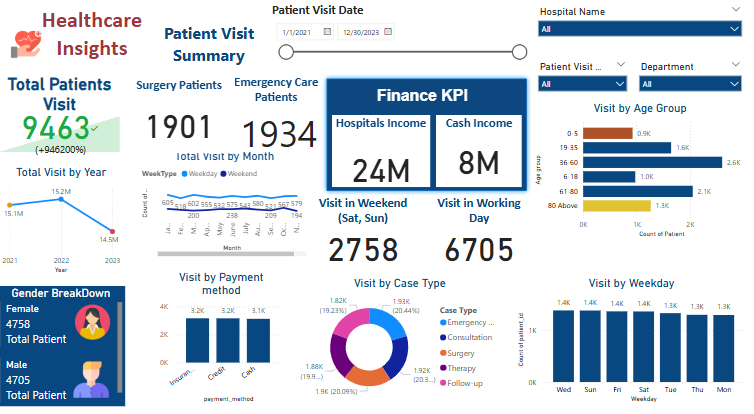

What the dashboard file says about the page in this screenshot:
{"tool":"powerbi","page":{"name":"Summary Report-1","canvas":[1280,720],"ordinal":0},"visuals":[{"type":"shape","box":[552.8,139.1,352.1,204.2],"z":0},{"type":"textbox","box":[70.6,20.2,191.5,136.1],"z":1000},{"type":"image","box":[0,37,112.5,104.1],"z":2000},{"type":"textbox","box":[262.6,46.3,200.8,94.6],"z":3000},{"type":"slicer","fields":{"Values":["Healthcare data.Patient Visit Date.Variation.Date Hierarchy.Month"]},"box":[905.5,110,169.9,86.9],"z":4000},{"type":"slicer","fields":{"Values":["Healthcare data.department"]},"box":[1075.4,110,193.1,86.9],"z":5000},{"type":"kpi","title":"Total Patients Visit","fields":{"Indicator":["Sum(Healthcare data.patient_id)"],"TrendLine":["Healthcare data.patient_id"],"Goal":["CountNonNull(Healthcare data.patient_id)"]},"box":[5,139.4,213.3,136.1],"z":6000},{"type":"slicer","fields":{"Values":["Healthcare data.Hospital Name"]},"box":[905.5,19.3,363,86.9],"z":7000},{"type":"multiRowCard","title":"Gender BreakDown","fields":{"Values":["Healthcare data.Sex","Calculation.Total Patient"]},"box":[4.3,495.4,217.4,201.6],"z":8000},{"type":"image","box":[132.5,479.5,69.1,154.1],"z":9000},{"type":"image","box":[129.6,596.2,70.6,113.8],"z":10000},{"type":"clusteredBarChart","title":"Visit by Age Group","fields":{"Category":["Healthcare data.Age group"],"Y":["Count(Healthcare data.patient_id)"]},"box":[905,184.9,362.7,234.2],"z":11000},{"type":"columnChart","title":"Visit by Payment method","fields":{"Category":["Healthcare data.payment_method"],"Y":["CountNonNull(Healthcare data.patient_id)"]},"box":[273.6,469.4,218.9,227.5],"z":12000},{"type":"donutChart","title":"Visit by Case Type","fields":{"Category":["Healthcare data.service_provided"],"Y":["CountNonNull(Healthcare data.patient_id)"]},"box":[509.8,479.5,348.5,217.4],"z":13000},{"type":"slicer","title":"Patient Visit Date","fields":{"Values":["Healthcare data.Patient Visit Date"]},"box":[463.6,18.5,441.8,120.9],"z":14000},{"type":"multiRowCard","title":"Emergency Care Patients","fields":{"Values":["Calculation.Emergency_patients"]},"box":[397.9,139.1,154.9,146.1],"z":15000},{"type":"lineChart","title":"Total Visit by Year","fields":{"Y":["Sum(Healthcare data.patient_id)"],"Category":["Healthcare data.Patient Visit Date.Variation.Date Hierarchy.Year","Healthcare data.Patient Visit Date.Variation.Date Hierarchy.Quarter","Healthcare data.Patient Visit Date.Variation.Date Hierarchy.Month","Healthcare data.Patient Visit Date.Variation.Date Hierarchy.Day"]},"box":[10.1,292.3,208.8,187.2],"z":16000},{"type":"lineChart","title":"Total Visit by Month","fields":{"Y":["CountNonNull(Healthcare data.patient_id)"],"Category":["Healthcare data.Patient Visit Date.Variation.Date Hierarchy.Month","Healthcare data.Patient Visit Date.Variation.Date Hierarchy.Day"],"Series":["Healthcare data.WeekType"]},"box":[244.7,265.9,287,184.9],"z":17000},{"type":"card","title":"Surgery Patients","fields":{"Values":["Calculation.Surgery_patients"]},"box":[218.4,144.5,188.1,127.7],"z":18000},{"type":"columnChart","title":"Visit  by Weekday","fields":{"Category":["Healthcare data.Weekday"],"Y":["CountNonNull(Healthcare data.patient_id)"]},"box":[877,479.5,391.7,217.4],"z":19000},{"type":"card","title":"Visit in Weekend (Sat, Sun)","fields":{"Values":["CountNonNull(Healthcare data.patient_id)"]},"box":[531.7,343.3,177.8,118],"z":20000},{"type":"card","title":"Visit in Working Day","fields":{"Values":["CountNonNull(Healthcare data.patient_id)"]},"box":[727.2,343.3,177.8,118],"z":22000},{"type":"card","title":"Hospitals Income ","fields":{"Values":["Sum(Healthcare data.cost)"]},"box":[569.4,208.3,164.6,120.9],"z":23000},{"type":"card","title":"Cash Income ","fields":{"Values":["Sum(Healthcare data.cost)"]},"box":[744.1,208.3,144.5,120.9],"z":24000},{"type":"textbox","box":[639.4,155.5,218.9,51.8],"z":25000}]}

Visuals, with their boxes in screenshot pixels (x1, y1, x2, y2), scaled from the page's 1280x720 canvas onto the 754x414 screenshot:
shape: [left=326, top=80, right=533, bottom=197]
textbox: [left=42, top=12, right=154, bottom=90]
image: [left=0, top=21, right=66, bottom=81]
textbox: [left=155, top=27, right=273, bottom=81]
slicer - Healthcare data.Patient Visit Date.Variation.Date Hierarchy.Month: [left=533, top=63, right=633, bottom=113]
slicer - Healthcare data.department: [left=633, top=63, right=747, bottom=113]
"Total Patients Visit" kpi: [left=3, top=80, right=129, bottom=158]
slicer - Healthcare data.Hospital Name: [left=533, top=11, right=747, bottom=61]
"Gender BreakDown" multiRowCard: [left=3, top=285, right=131, bottom=401]
image: [left=78, top=276, right=119, bottom=364]
image: [left=76, top=343, right=118, bottom=408]
"Visit by Age Group" clusteredBarChart: [left=533, top=106, right=747, bottom=241]
"Visit by Payment method" columnChart: [left=161, top=270, right=290, bottom=401]
"Visit by Case Type" donutChart: [left=300, top=276, right=506, bottom=401]
"Patient Visit Date" slicer: [left=273, top=11, right=533, bottom=80]
"Emergency Care Patients" multiRowCard: [left=234, top=80, right=326, bottom=164]
"Total Visit by Year" lineChart: [left=6, top=168, right=129, bottom=276]
"Total Visit by Month" lineChart: [left=144, top=153, right=313, bottom=259]
"Surgery Patients" card: [left=129, top=83, right=239, bottom=157]
"Visit  by Weekday" columnChart: [left=517, top=276, right=747, bottom=401]
"Visit in Weekend (Sat, Sun)" card: [left=313, top=197, right=418, bottom=265]
"Visit in Working Day" card: [left=428, top=197, right=533, bottom=265]
"Hospitals Income " card: [left=335, top=120, right=432, bottom=189]
"Cash Income " card: [left=438, top=120, right=523, bottom=189]
textbox: [left=377, top=89, right=506, bottom=119]
